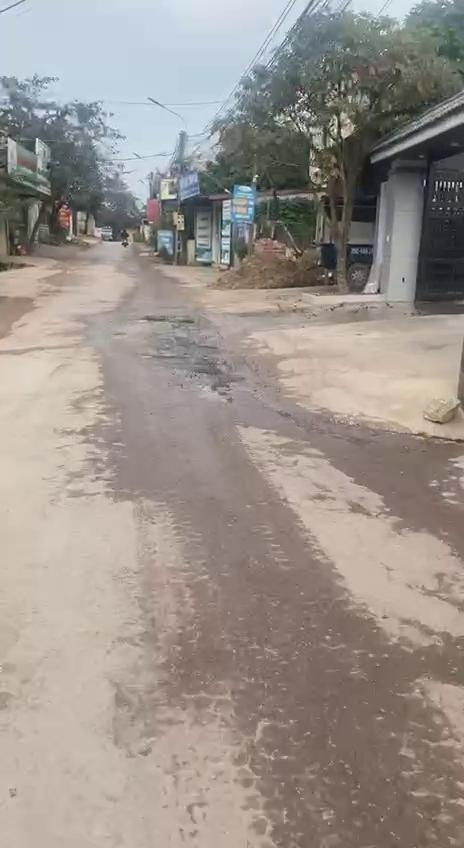pothole: (190, 364, 250, 408)
